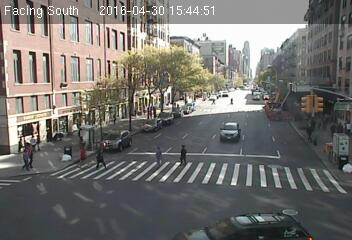neg: (29, 176, 55, 210), (221, 124, 246, 158), (158, 64, 183, 97), (235, 78, 259, 110), (96, 56, 119, 86), (288, 83, 310, 112), (288, 164, 310, 192), (48, 47, 69, 76), (241, 181, 262, 208), (22, 76, 42, 103), (149, 188, 169, 214), (87, 191, 104, 215), (90, 24, 106, 44), (303, 48, 318, 68), (200, 32, 215, 52)
pos: (70, 139, 93, 170), (19, 142, 41, 172), (173, 139, 195, 167), (150, 144, 168, 168), (95, 146, 113, 170), (303, 120, 320, 142)
